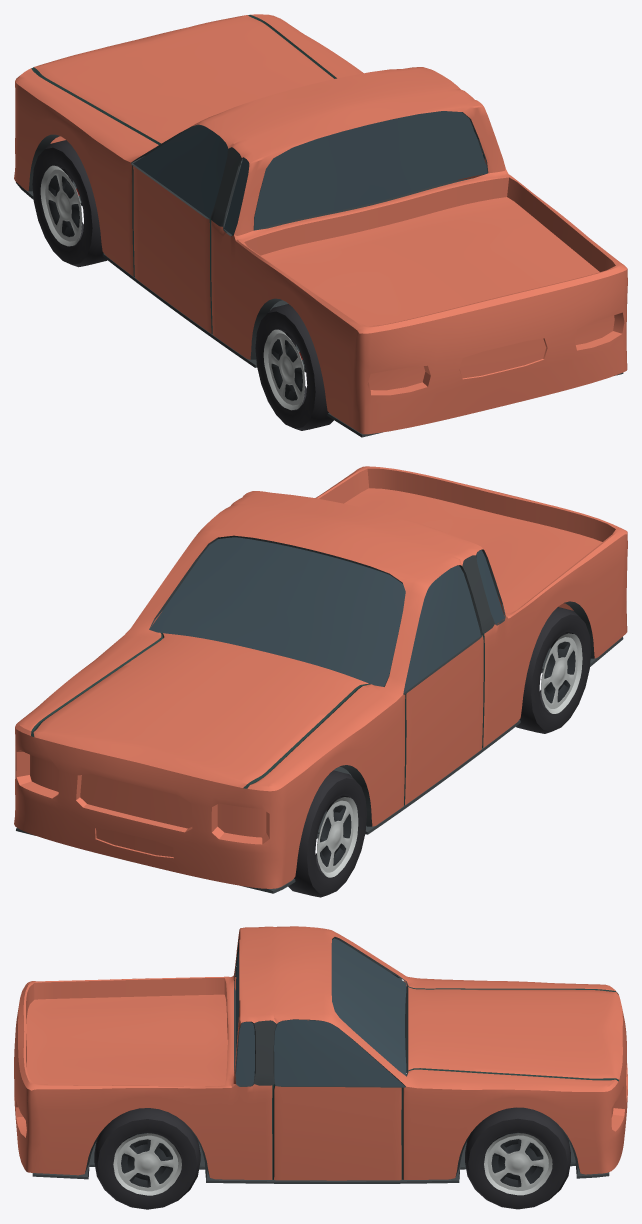
The model's file is forge_closed_pickup_lod2.fbx.
The picture shows the model from 3 angles, top to bottom: view 1: azimuth 30°, elevation 25°; view 2: azimuth 150°, elevation 25°; view 3: azimuth 270°, elevation 25°; orthographic projection. The views are drawn at different scales.
Visible parts, largest first — view 1: Body, Wheel_RL_Mesh, Wheel_FL_Mesh; view 2: Body, Wheel_FL_Mesh, Wheel_RL_Mesh; view 3: Body, Wheel_FR_Mesh, Wheel_RR_Mesh.
Part boxes in pixels (<box>): Body: <box>14,14,627,437</box>; Wheel_RL_Mesh: <box>255,304,333,430</box>; Wheel_FL_Mesh: <box>32,140,107,267</box>; Body: <box>14,466,627,893</box>; Wheel_FL_Mesh: <box>288,770,366,897</box>; Wheel_RL_Mesh: <box>516,607,591,733</box>; Body: <box>14,926,627,1183</box>; Wheel_FR_Mesh: <box>465,1107,570,1209</box>; Wheel_RR_Mesh: <box>94,1108,200,1209</box>.
Size of the model in its own units: 160 by 128 by 370.
